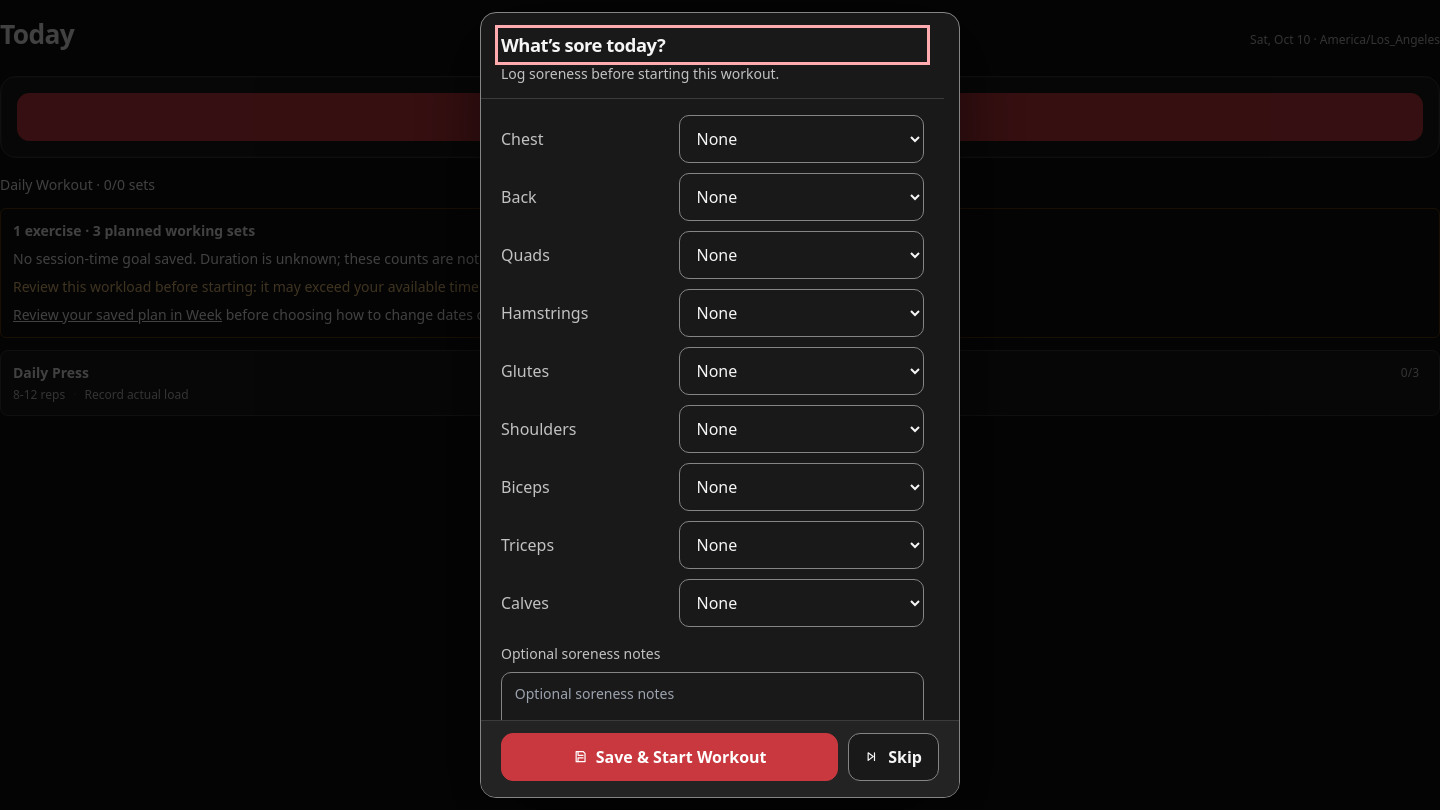
Test: daily lookup and saved soreness use the scheduling date at 2026-10-11T02:00:00Z
This screenshot has width=1440, height=810.
Expected: the heading "What’s sore today?" is shown, [501,32,665,57]
Click the button "Save & Start Workout" at (670, 757), box [501,733,838,781]
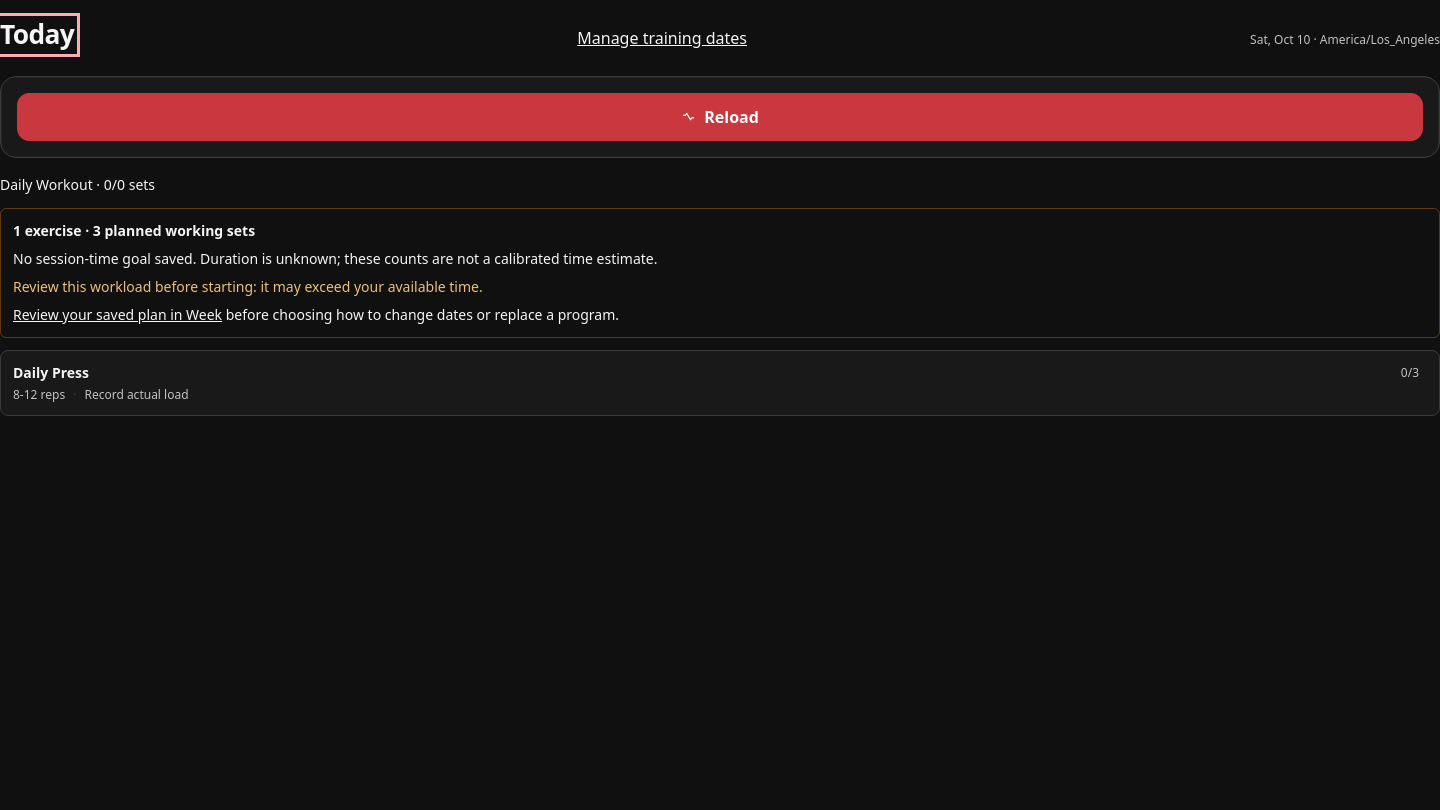
Now the heading "sore today?" is gone
